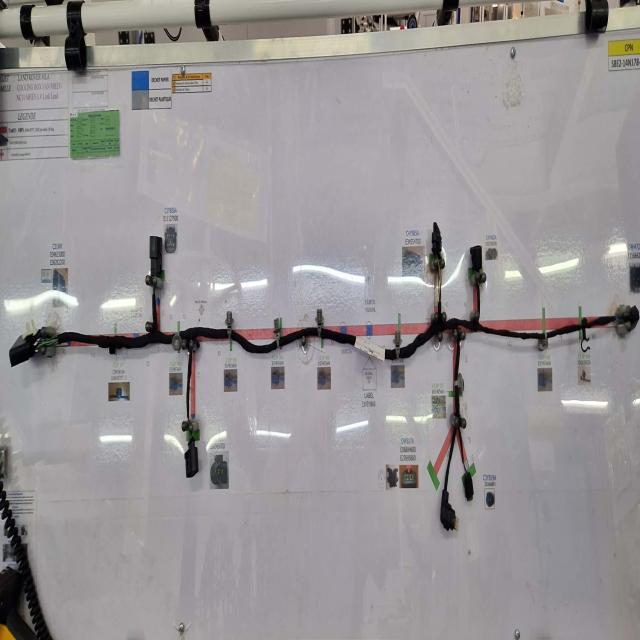Clip: (170, 320, 185, 353), (579, 310, 590, 355), (539, 305, 548, 354), (394, 319, 402, 369), (224, 309, 233, 352), (316, 304, 324, 347), (272, 316, 281, 349), (460, 354, 468, 380), (109, 345, 116, 355)
Connector: (8, 330, 39, 367), (440, 491, 459, 534), (149, 227, 163, 276), (184, 437, 199, 480), (469, 242, 483, 272), (432, 222, 442, 262), (463, 468, 474, 504), (631, 307, 640, 333)
Gape: (39, 330, 61, 354), (608, 316, 628, 335), (435, 231, 441, 284), (186, 420, 197, 444), (152, 272, 158, 296), (476, 277, 480, 295)
Info: (354, 337, 386, 363)
MHEV_N11_Cable: (53, 286, 617, 512)
